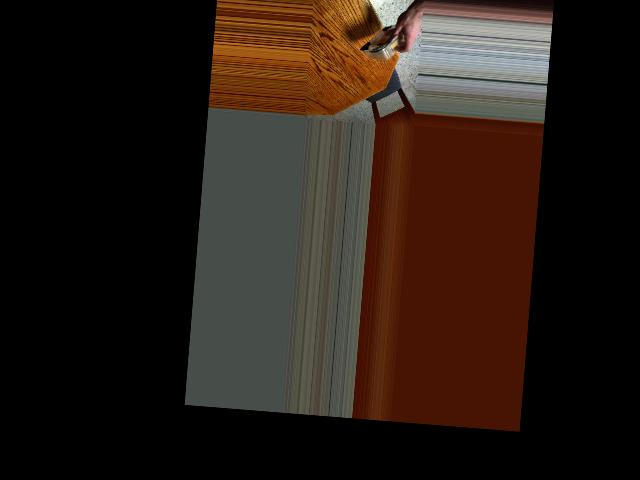cheese: (361, 8, 408, 71)
